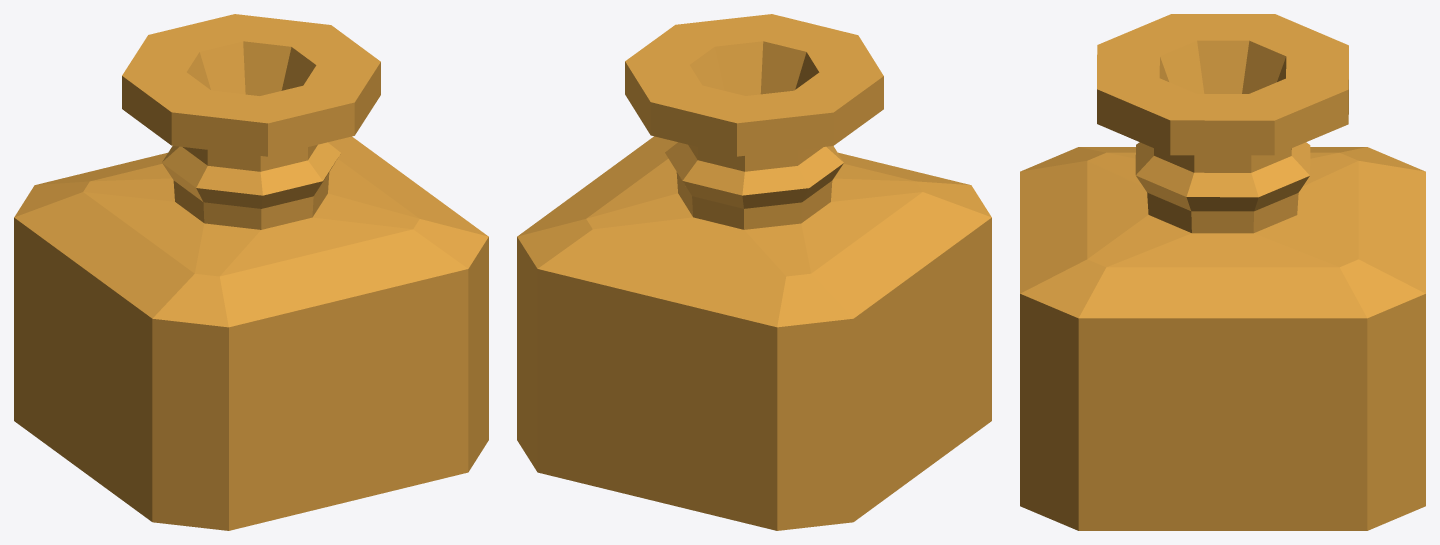
The model's file is SM_Bottle_Ink_Open.fbx.
The picture shows the model from 3 angles, left to right: view 1: azimuth 30°, elevation 25°; view 2: azimuth 150°, elevation 25°; view 3: azimuth 270°, elevation 25°; orthographic projection. The views are drawn at different scales.
Parts seen in each view (by area): view 1: bottle-ink-open; view 2: bottle-ink-open; view 3: bottle-ink-open.
Boxes of the visible parts, x1,y1,x2,y2 form: bottle-ink-open: (14, 14, 488, 530); bottle-ink-open: (517, 14, 991, 530); bottle-ink-open: (1020, 14, 1425, 530).
Size of the model in its own units: 0.07 by 0.072 by 0.07.
